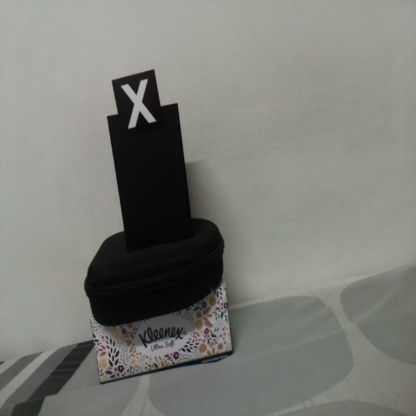id_13: (111, 78, 161, 135)
